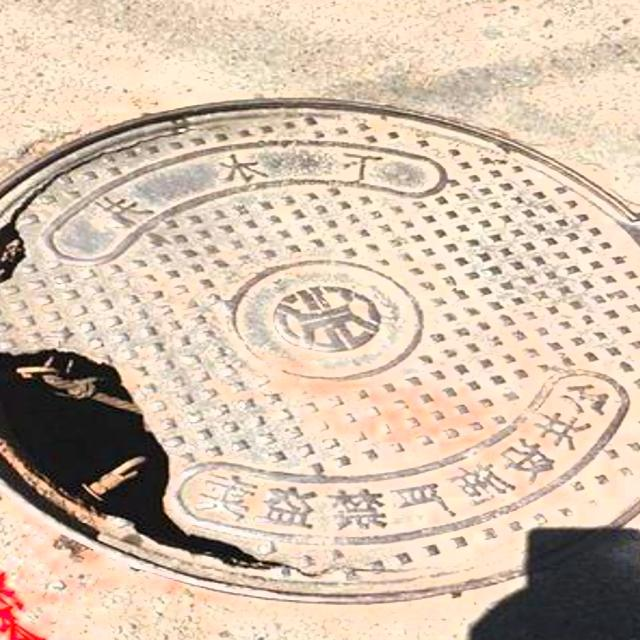broke: (0, 68, 640, 598)
